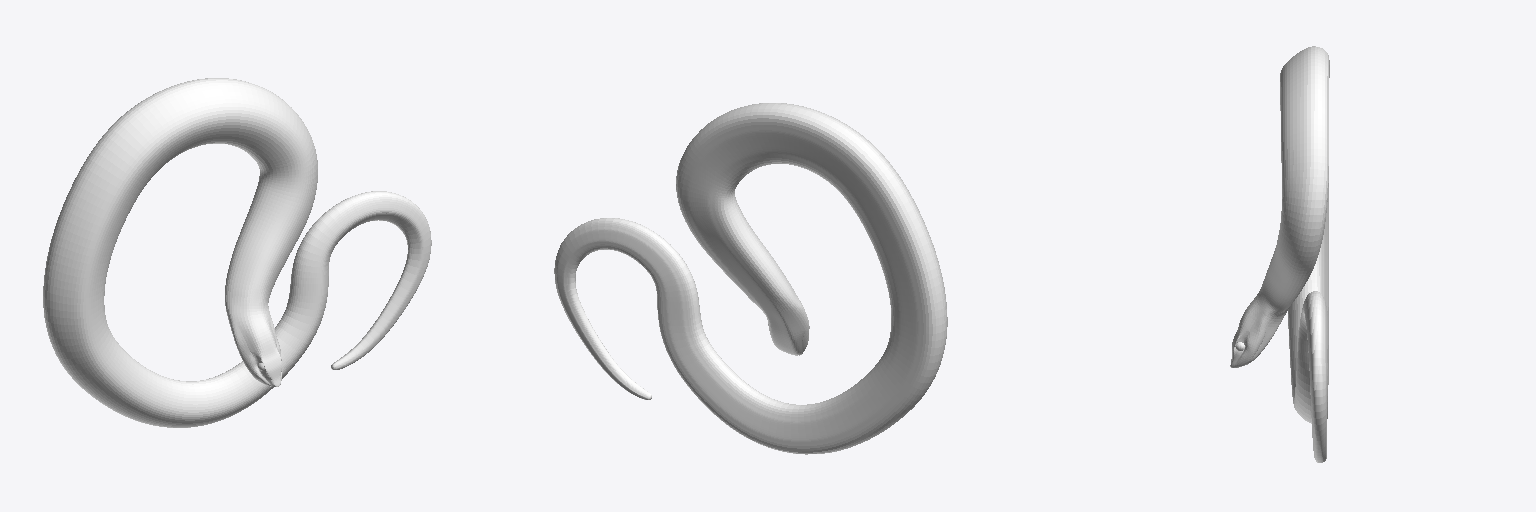
Rendered from 13108_Eastern_Hognose_Snake_v1_L3.obj.
3 renders of one model, left to right at view 1: azimuth 30°, elevation 25°; view 2: azimuth 150°, elevation 25°; view 3: azimuth 270°, elevation 25°, orthographic.
Visible parts, largest first — view 1: Eastern_Hognose_Snake; view 2: Eastern_Hognose_Snake; view 3: Eastern_Hognose_Snake.
Part boxes in pixels (x1,y1,x2,y2): Eastern_Hognose_Snake: (43,78,431,427); Eastern_Hognose_Snake: (554,103,947,454); Eastern_Hognose_Snake: (1230,46,1329,462).
Size of the model in its own units: 136 by 115 by 30.03.